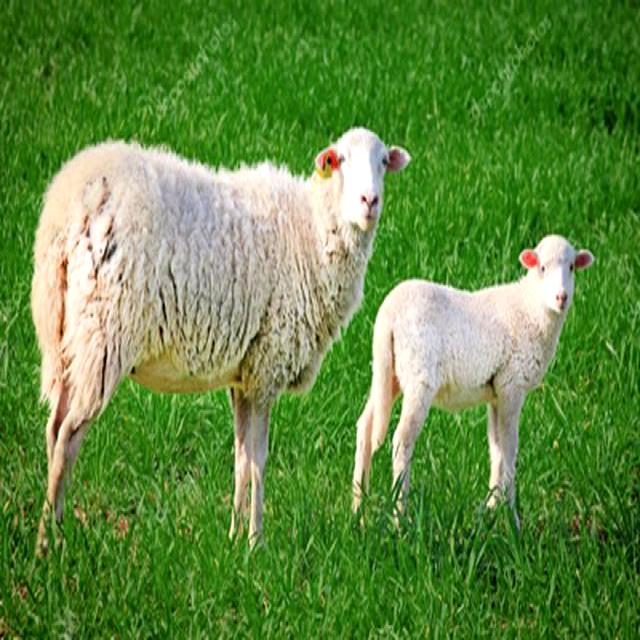sheep: (29, 127, 411, 563), (351, 234, 595, 537)
